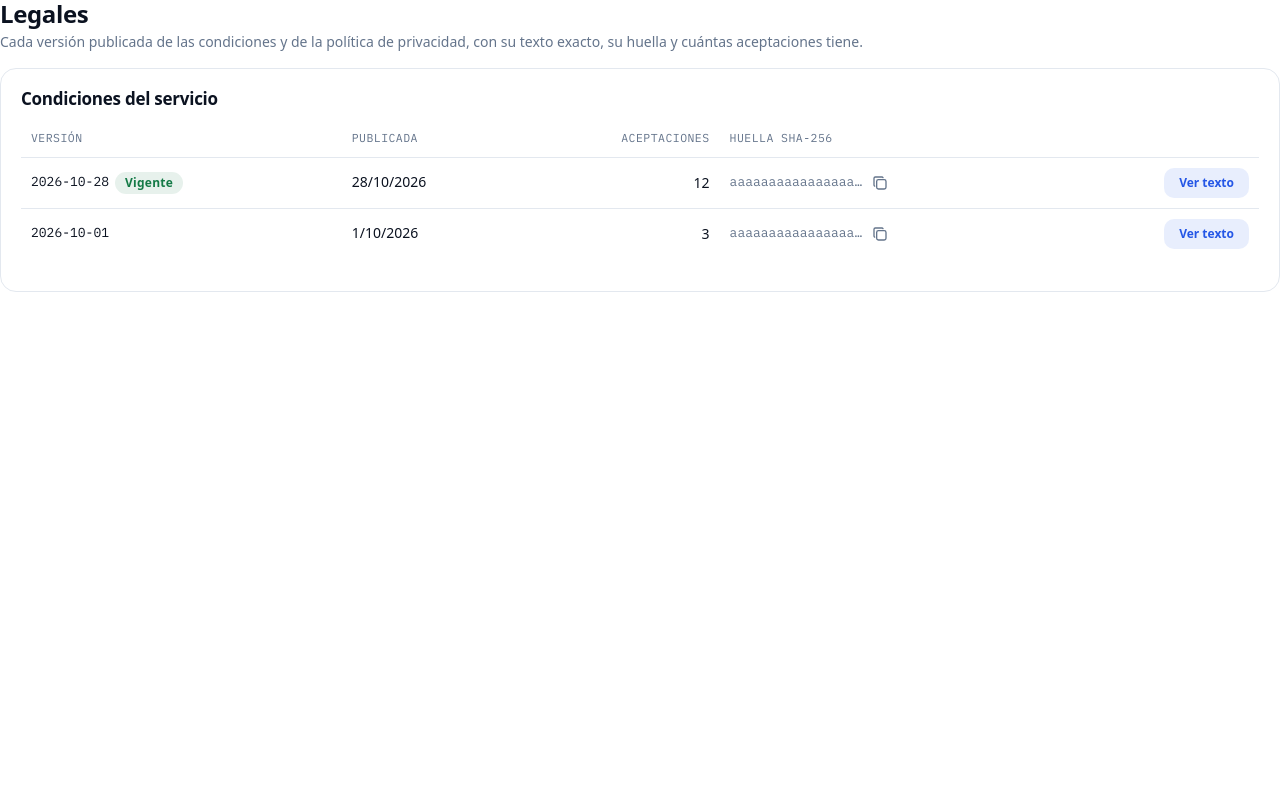
Test case: LegalPage › lista las versiones y abre el texto de una anterior
The width and height of the screenshot is (1280, 800).
Check: the text "2026-10-28" is shown, box [31,173,109,192]
Check: the text "1/10/2026" is shown, box [352,223,418,242]
Click the button "Ver texto" in the row of "2026-10-01": (1207, 234) [1164,218,1249,248]
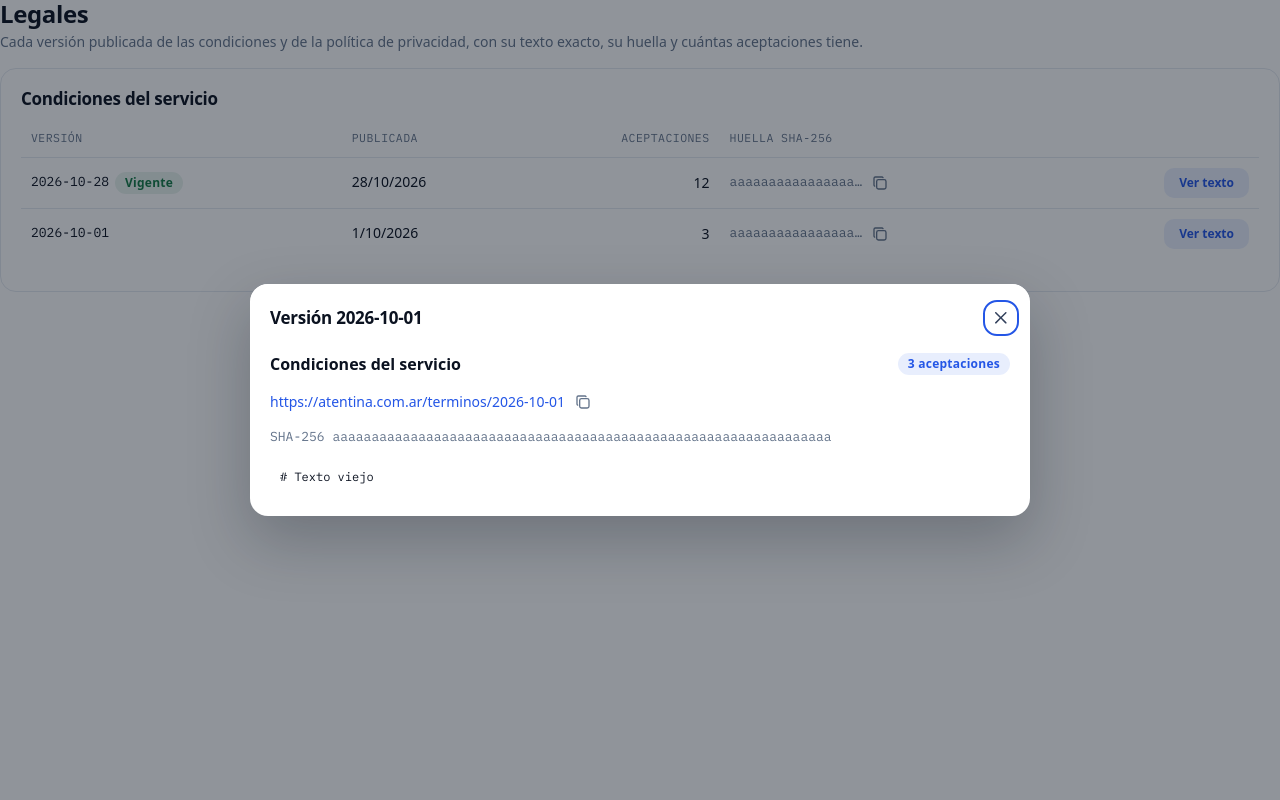
Check: the text "# Texto viejo" is shown, box [280,470,374,484]
Check: the link "https://atentina.com.ar/terminos/2026-10-01" is shown, box [270,392,565,412]
